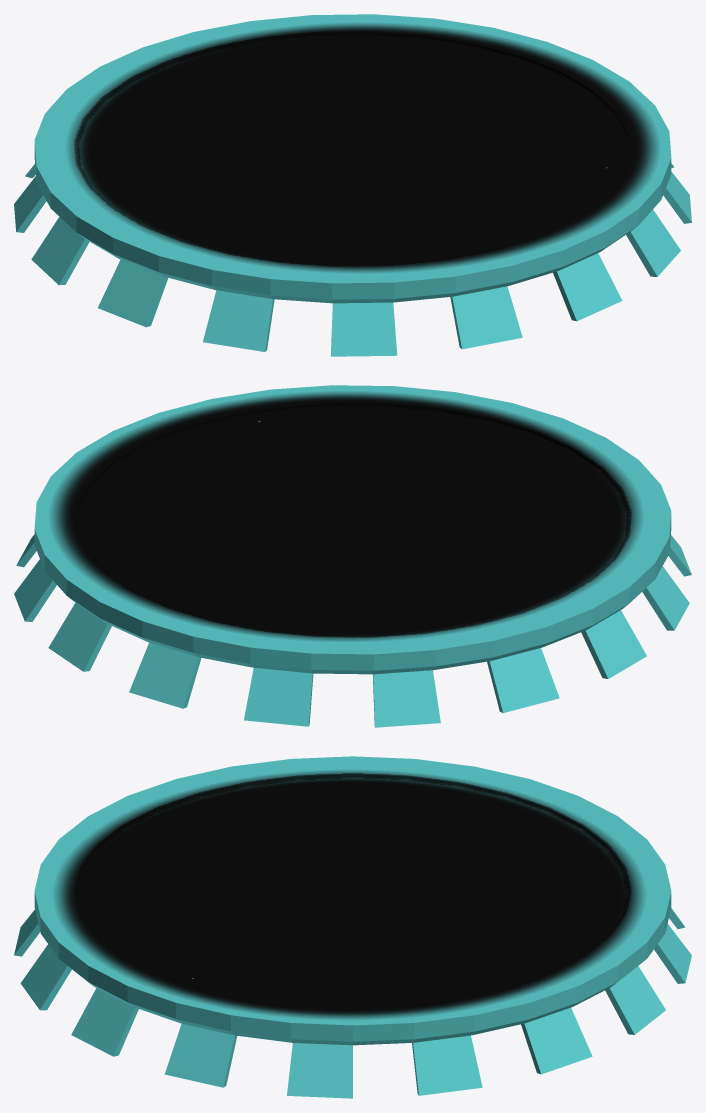
The model's file is Trampoline.glb.
3 views of the same model, one above another, from view 1: azimuth 30°, elevation 25°; view 2: azimuth 150°, elevation 25°; view 3: azimuth 270°, elevation 25° (orthographic).
Parts seen in each view (by area): view 1: Cylinder; view 2: Cylinder; view 3: Cylinder.
Part boxes in pixels (x1=…): Cylinder: x1=14, y1=14, x2=691, y2=356; Cylinder: x1=14, y1=385, x2=691, y2=727; Cylinder: x1=14, y1=756, x2=691, y2=1098.
Size of the model in its own units: 2.13 by 0.2278 by 2.13.
Materials: 1 (1 with a texture image).
